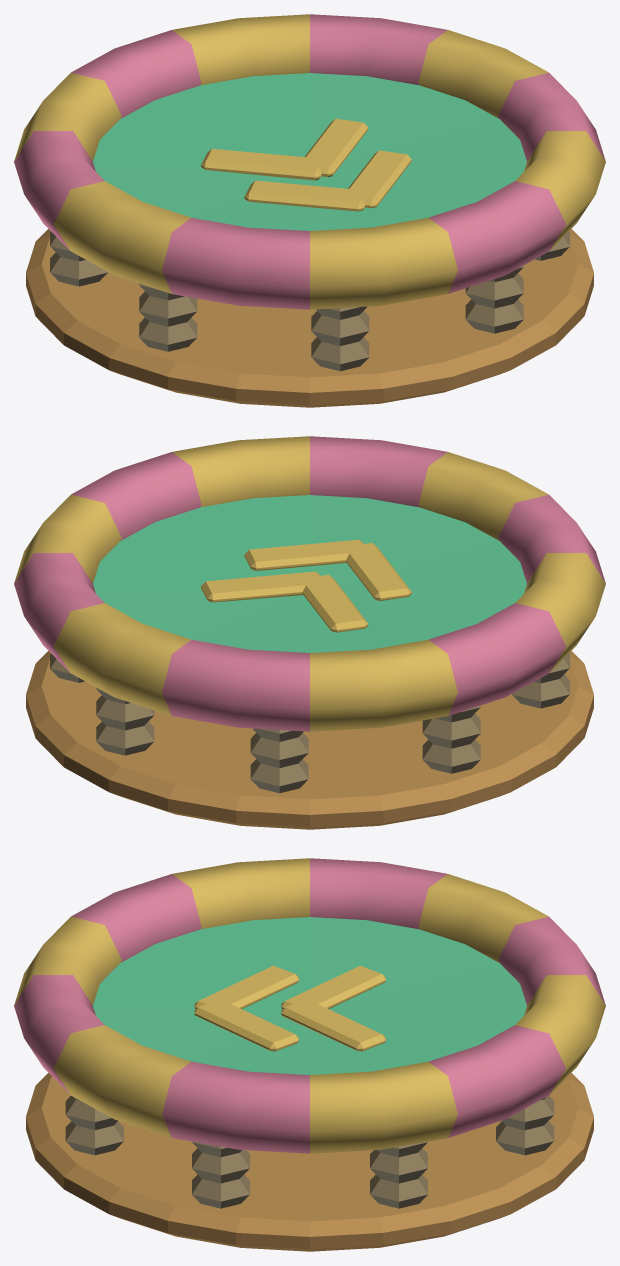
Rendered from pvp_fun_bounce_pad.fbx.
3 views of the same model, one above another, from view 1: azimuth 30°, elevation 25°; view 2: azimuth 150°, elevation 25°; view 3: azimuth 270°, elevation 25° (orthographic).
Visible parts, largest first — view 1: pvp_fun_bounce_pad; view 2: pvp_fun_bounce_pad; view 3: pvp_fun_bounce_pad.
Part boxes in pixels (box(x1,y1,x2,y2)): pvp_fun_bounce_pad: box(14, 14, 605, 407); pvp_fun_bounce_pad: box(14, 436, 605, 829); pvp_fun_bounce_pad: box(14, 858, 605, 1251).
Size of the model in its own units: 3 by 0.9132 by 3.
